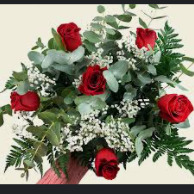RedRose: (154, 88, 193, 123), (75, 63, 111, 97), (91, 146, 126, 180), (54, 23, 86, 51), (8, 88, 42, 113), (132, 28, 159, 54)
